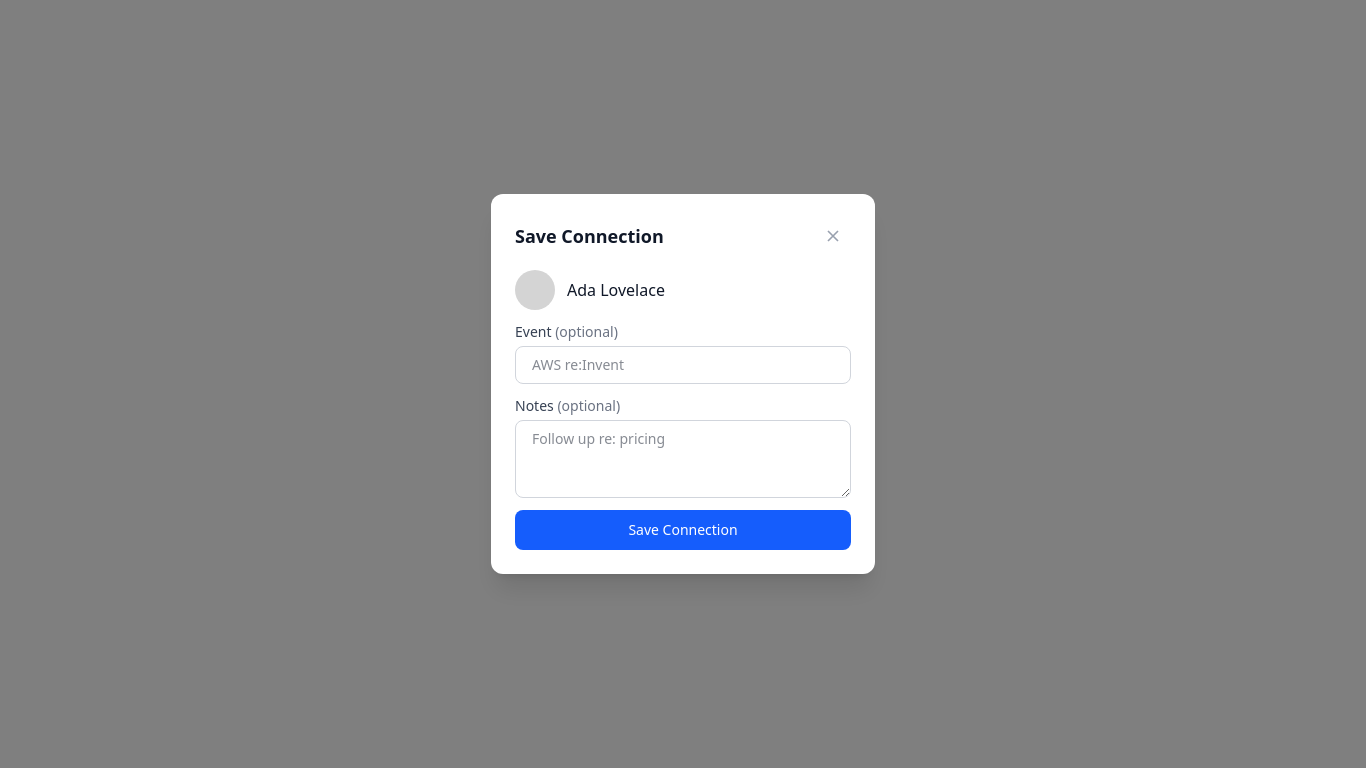
Test: SaveConnectionModal › shows an error message when the save fails
Click the button "Save Connection": [683, 530] box [515, 510, 851, 550]
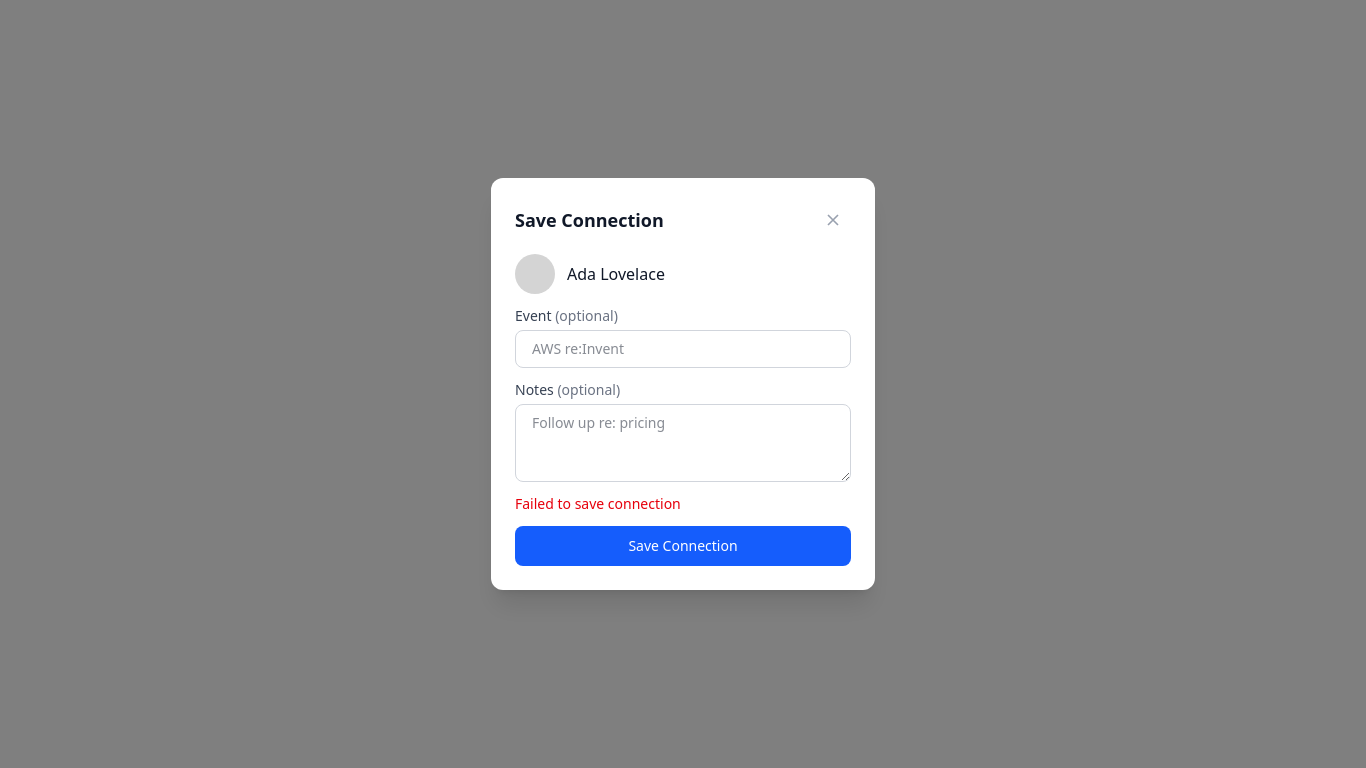
Check: the message reads "Failed to save connection", box [515, 494, 681, 513]
